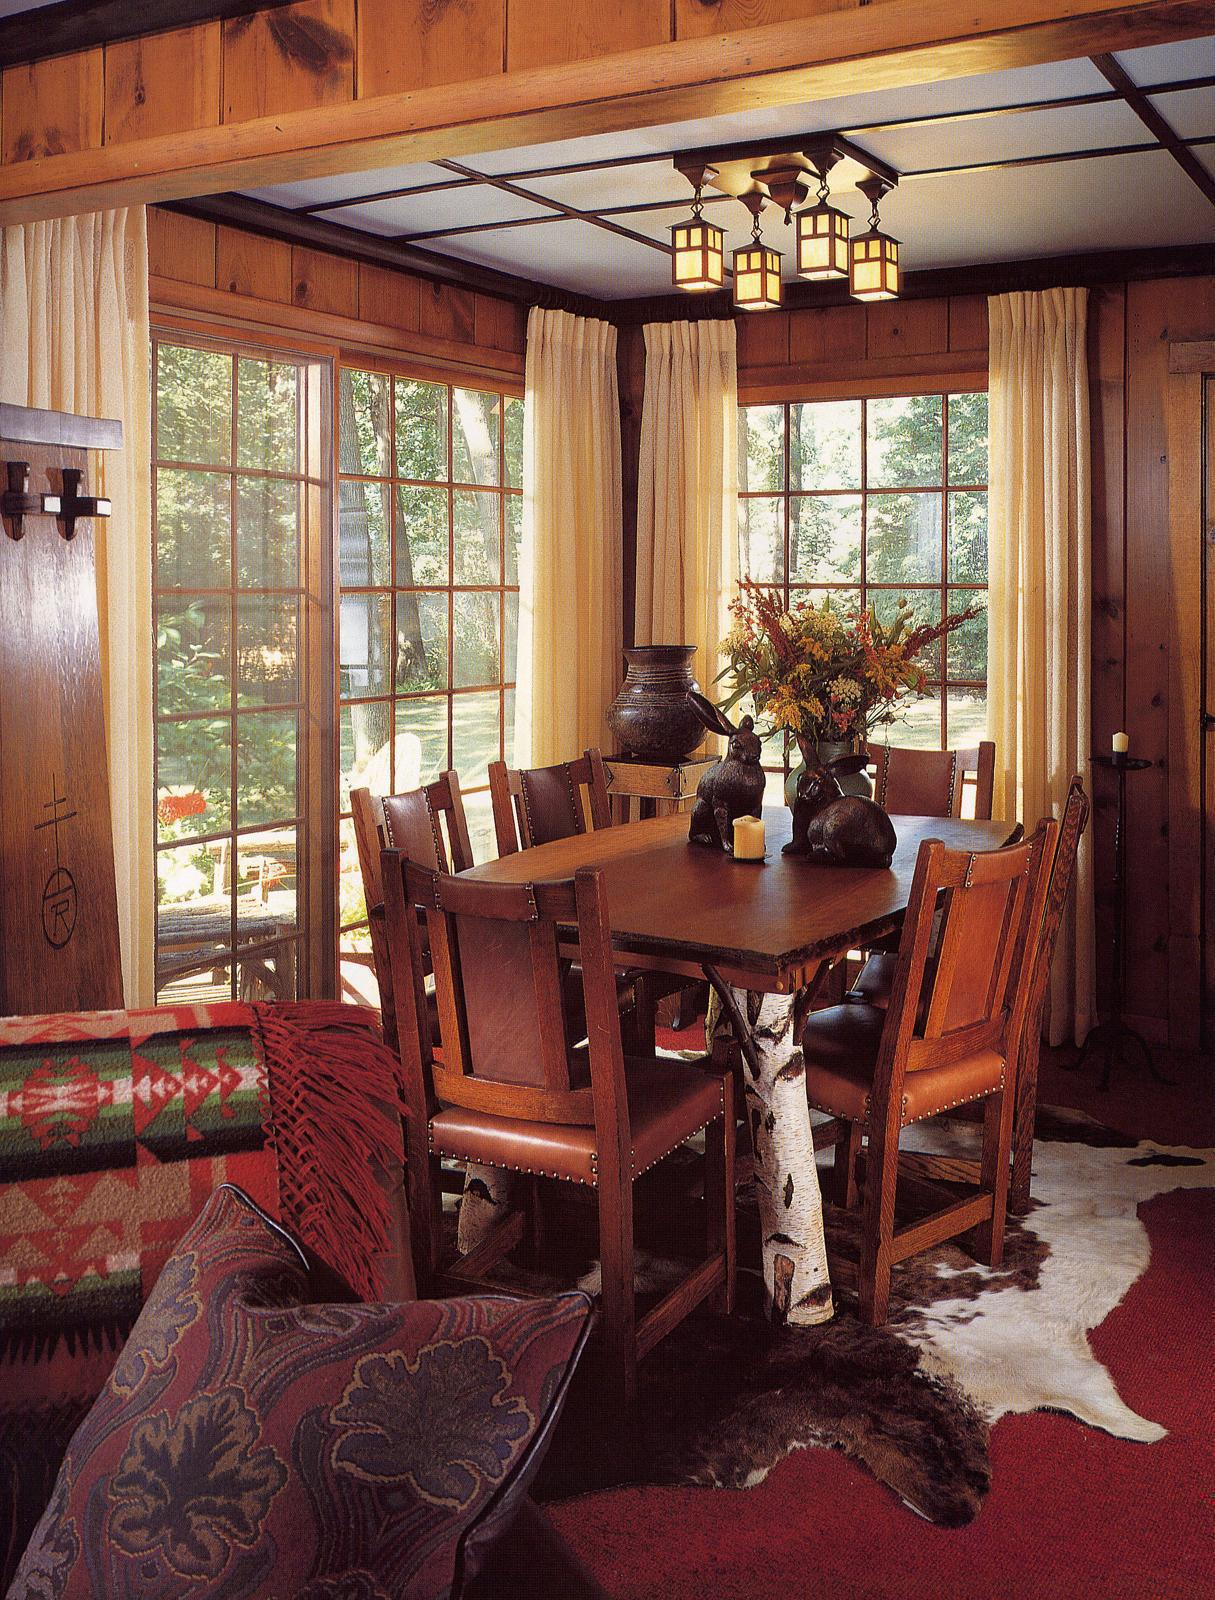Ventana: (170, 325, 516, 1003), (733, 393, 1006, 786)
